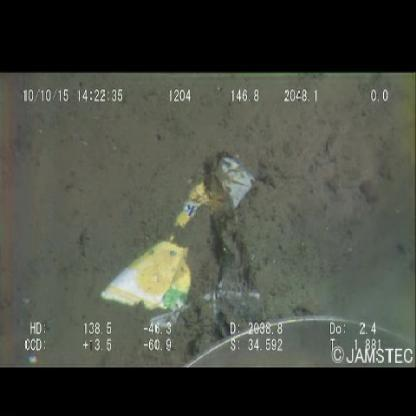Rác: (100, 150, 254, 312)
